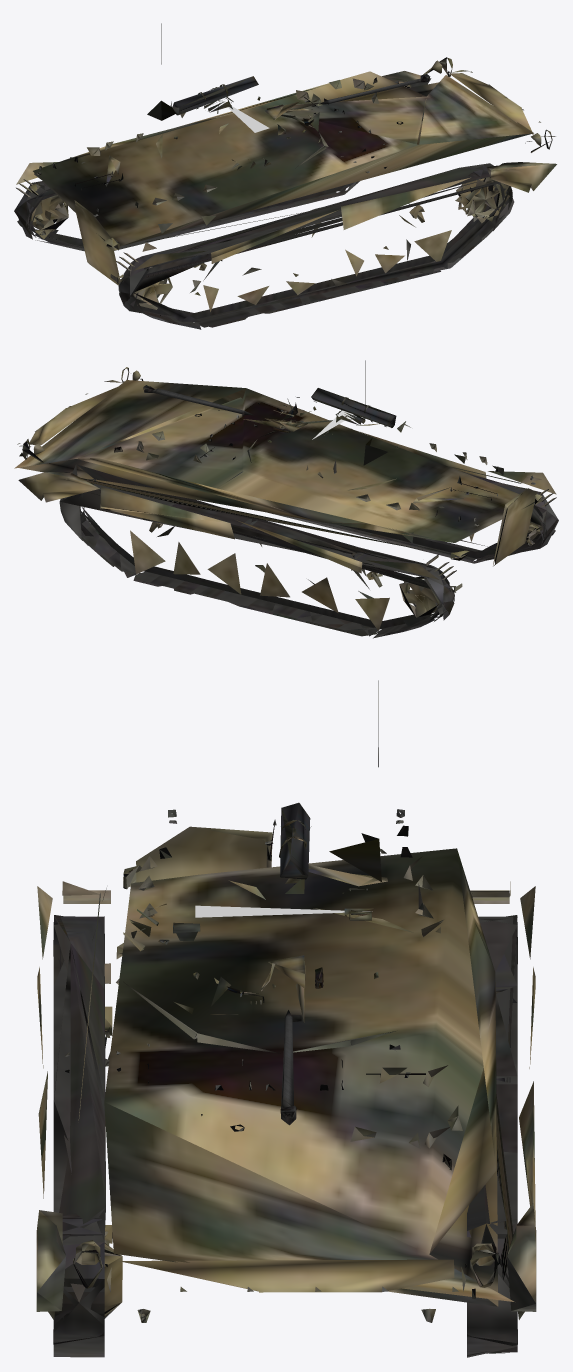
The model's file is bmp2_lo.glb.
The picture shows the model from 3 angles, top to bottom: view 1: azimuth 30°, elevation 25°; view 2: azimuth 150°, elevation 25°; view 3: azimuth 270°, elevation 25°; orthographic projection. The views are drawn at different scales.
Parts seen in each view (by area): view 1: g_bmp2_hull, g_bmp2_turret, g_bmp2_gun; view 2: g_bmp2_hull, g_bmp2_turret, g_bmp2_gun; view 3: g_bmp2_hull, g_bmp2_turret, g_bmp2_gun.
Boxes of the visible parts, x1,y1,x2,y2 form: g_bmp2_hull: [14, 57, 556, 329]; g_bmp2_turret: [147, 23, 322, 169]; g_bmp2_gun: [319, 74, 430, 104]; g_bmp2_hull: [14, 367, 558, 638]; g_bmp2_turret: [243, 360, 410, 478]; g_bmp2_gun: [143, 385, 253, 416]; g_bmp2_hull: [36, 809, 536, 1357]; g_bmp2_turret: [123, 680, 443, 1022]; g_bmp2_gun: [280, 1010, 301, 1125].
Bounding box in the file's own units: 6.67 × 3.5 × 3.22.
4 materials, 3 textured.
